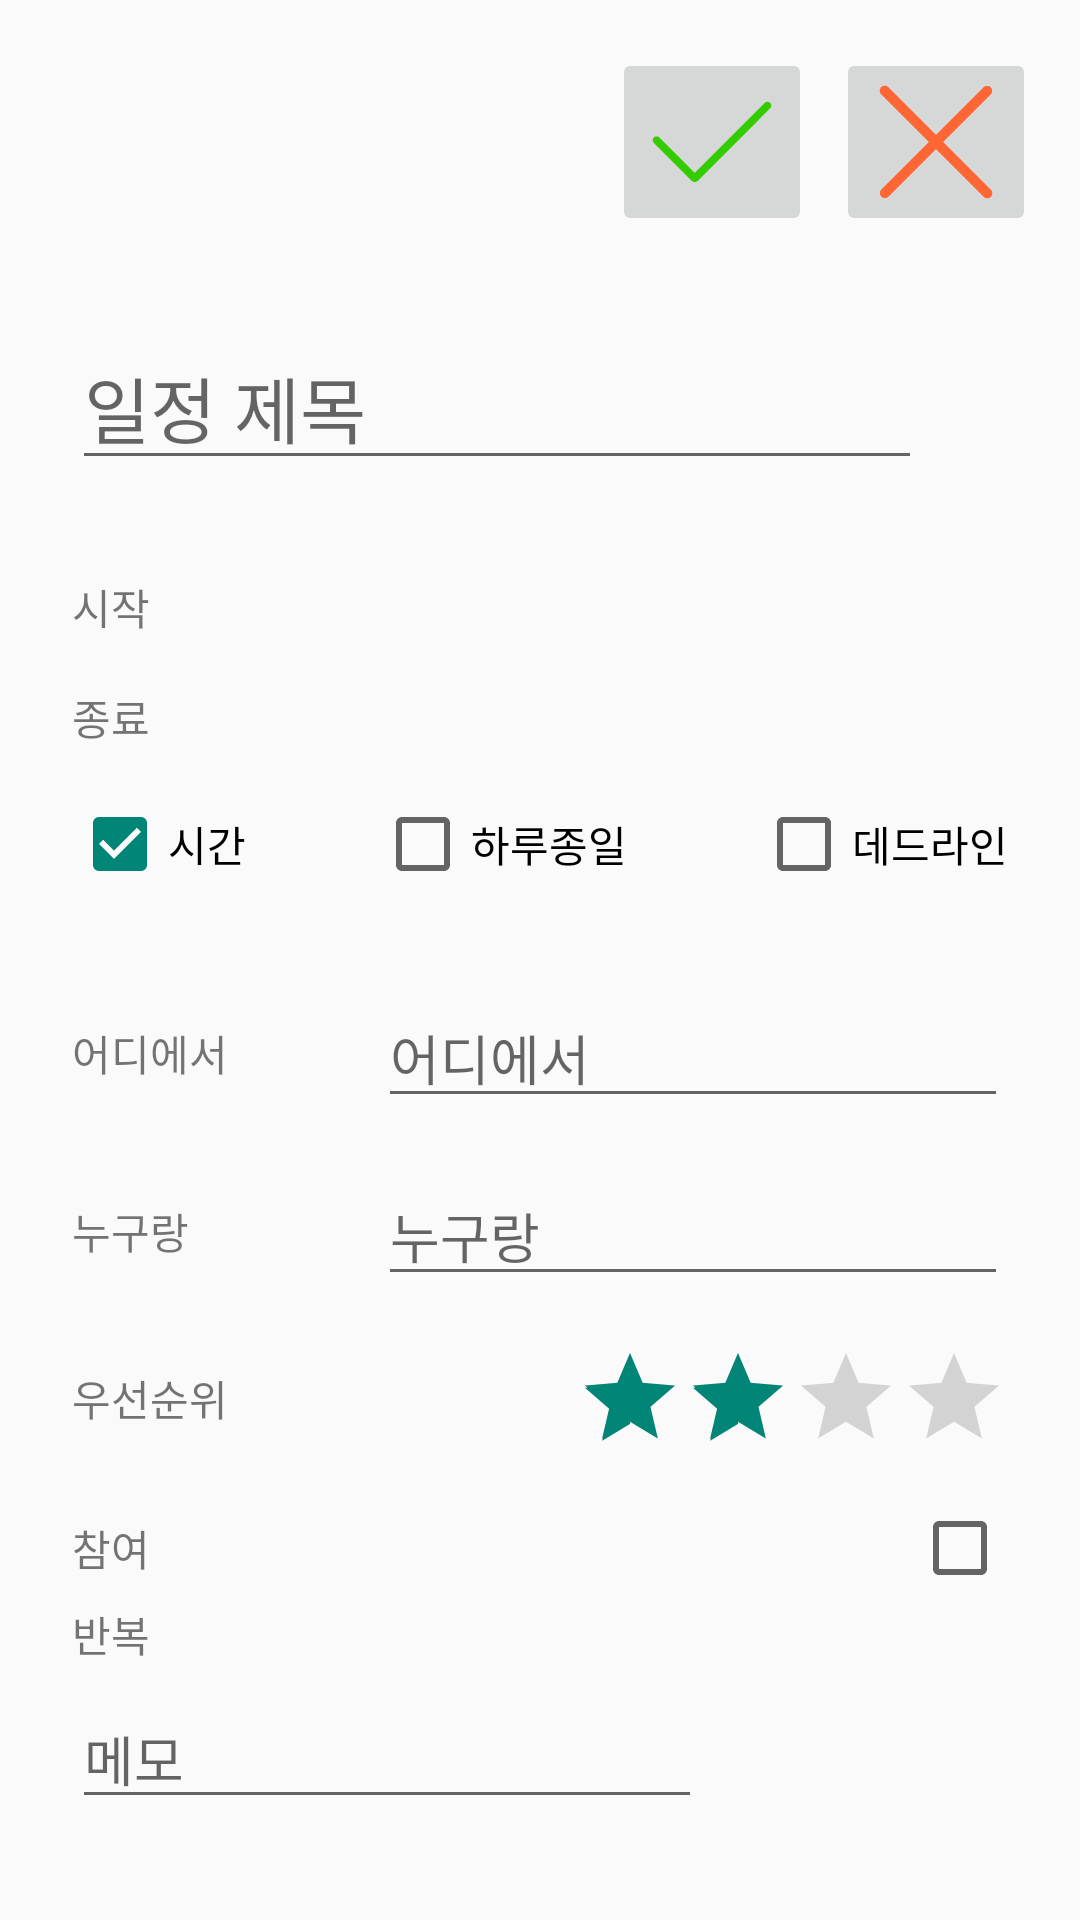

Screen size 1080px x 1920px. Icon name, then its center in pixels as point (x, y):
CANCELING: point (936, 142)
CHECK: point (712, 142)
